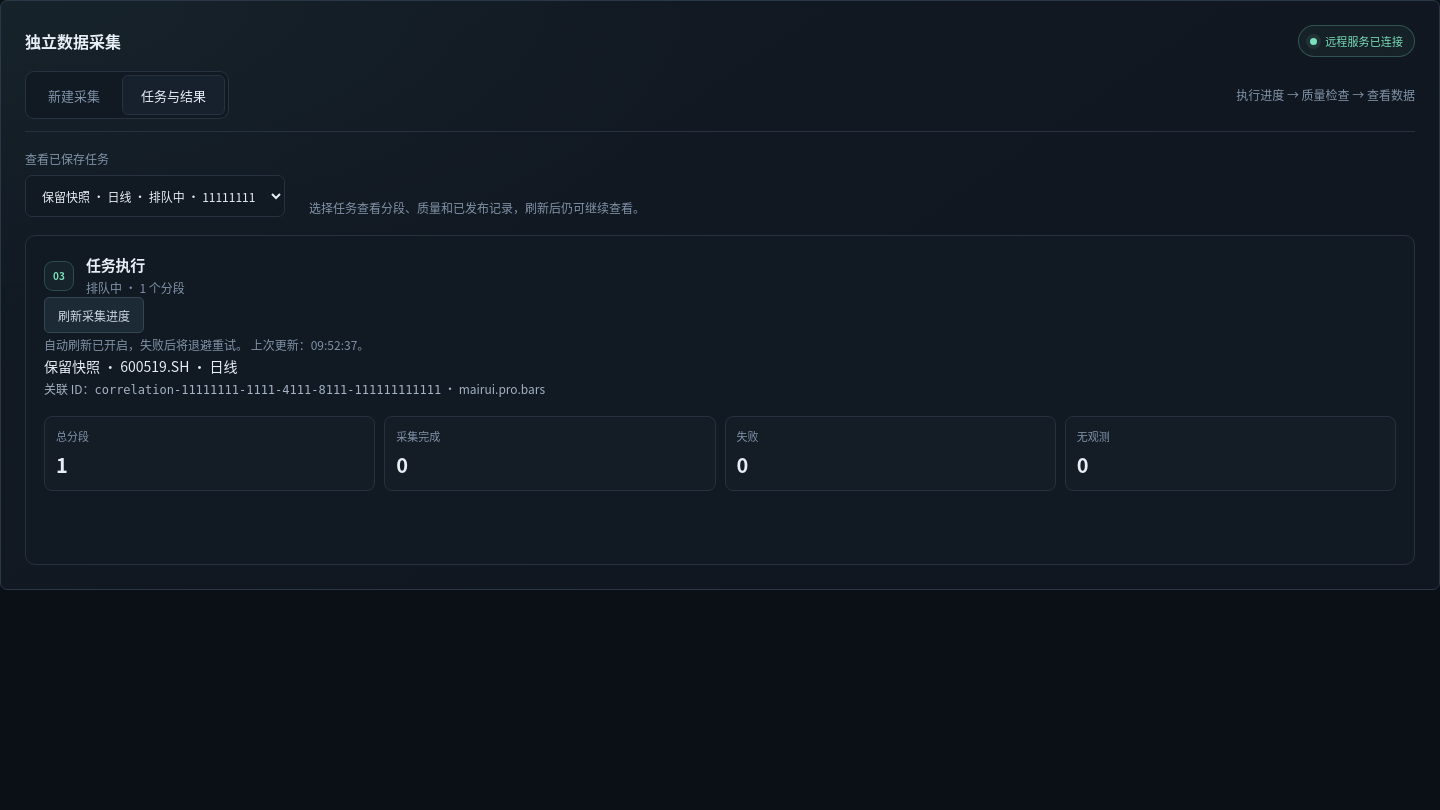
Test: CollectorPanel job observability › keeps the current snapshot after a failed manual read and can retry
This screenshot has width=1440, height=810.
Click the button "刷新采集进度".
click(94, 315)  # box [44,297,144,333]
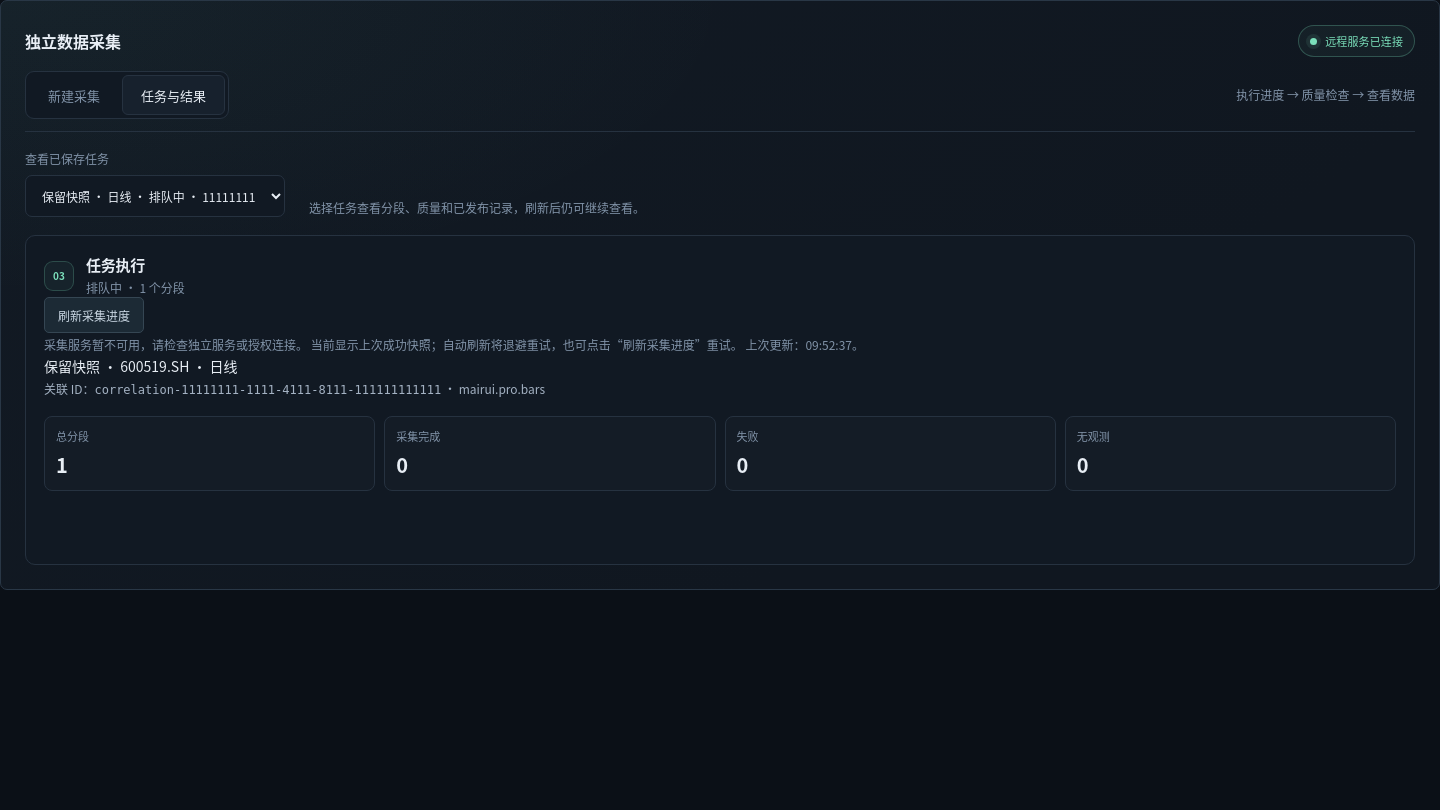
Expected: the element with class "collector-run" shows "保留快照", [44,356,189,376]
Result: the message shows "当前显示上次成功快照" at [44,336,743,353]
Click the button "刷新采集进度".
click(94, 315)  # box [44,297,144,333]
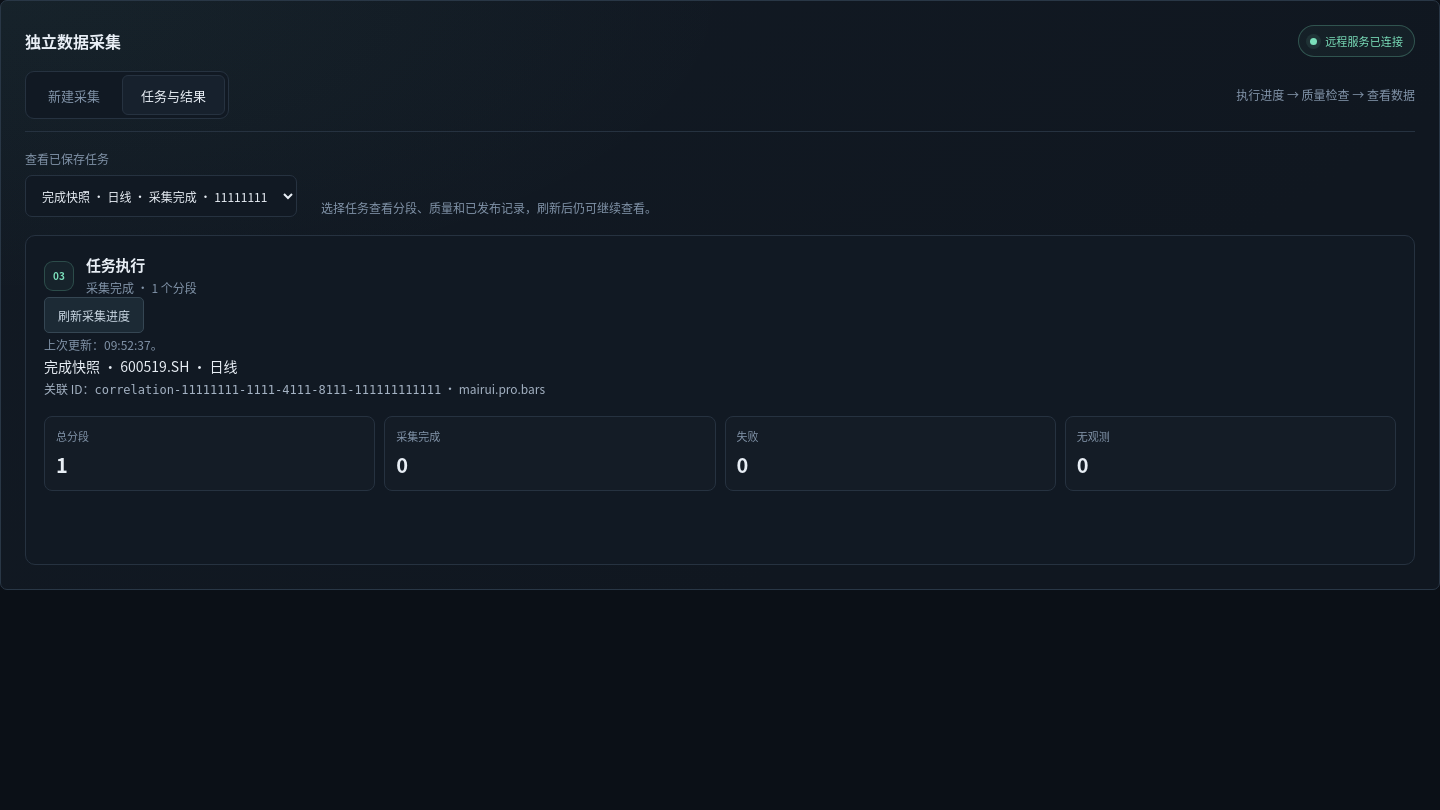
Result: the element with class "collector-run" shows "完成快照" at [44,356,189,376]
